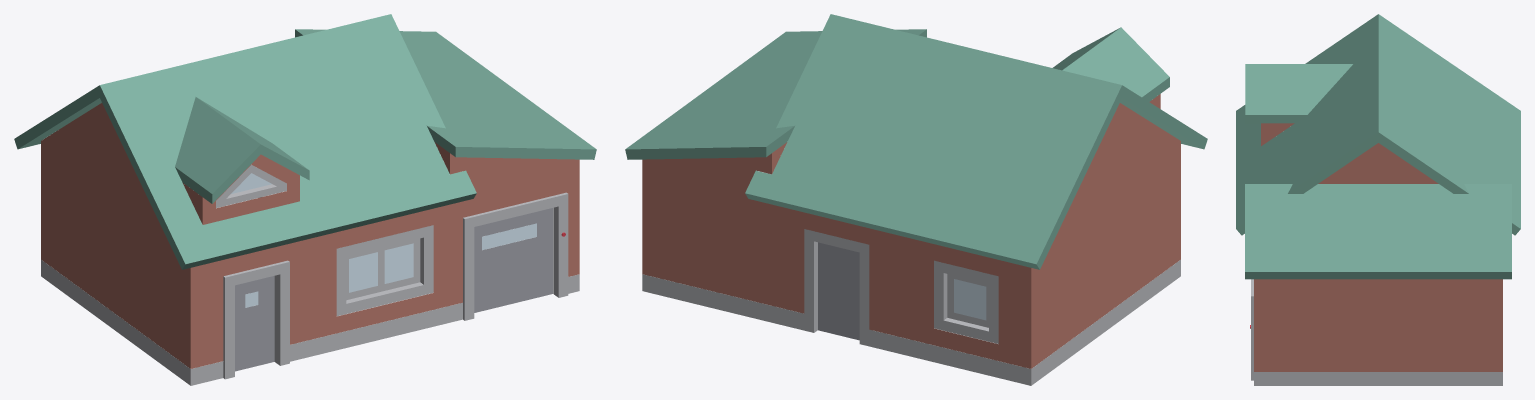
The model's file is house2.glb.
3 renders of one model, left to right at view 1: azimuth 30°, elevation 25°; view 2: azimuth 150°, elevation 25°; view 3: azimuth 270°, elevation 25°, orthographic. The views are drawn at different scales.
Visible parts, largest first — view 1: house, garage, garage window; view 2: house; view 3: house.
Boxes of the visible parts, x1,y1,x2,y2 form: house: [14, 14, 596, 385]; garage: [474, 208, 552, 312]; garage window: [482, 223, 536, 249]; house: [625, 14, 1207, 385]; house: [1236, 14, 1520, 385].
Bounding box in the file's own units: 11.58 × 6.64 × 8.25.
